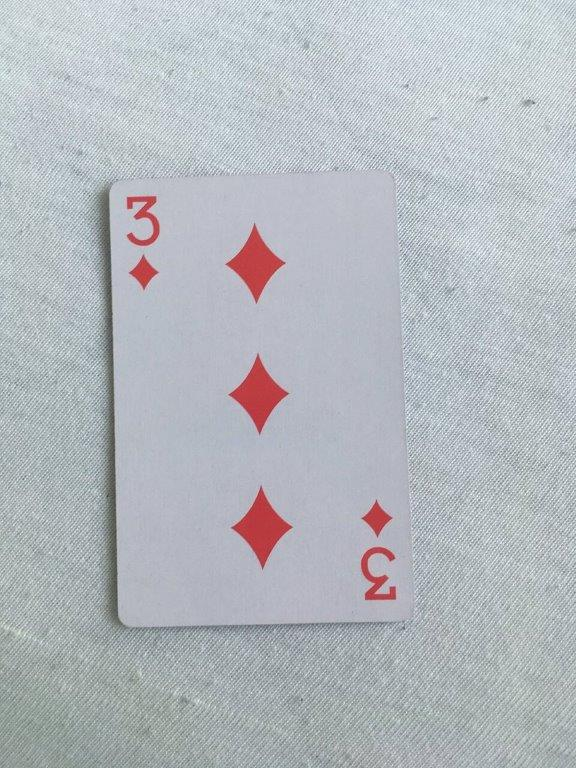3D: (105, 168, 415, 628)
